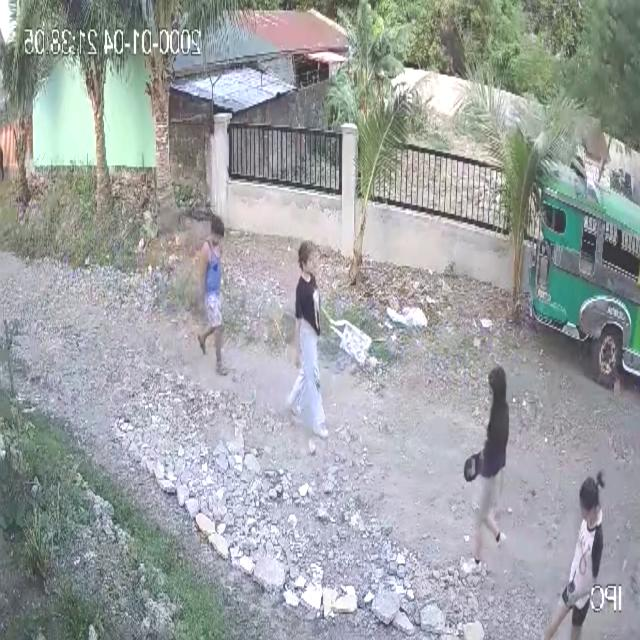walking: (279, 236, 375, 443), (454, 362, 528, 578), (546, 459, 620, 640), (177, 208, 232, 382)
